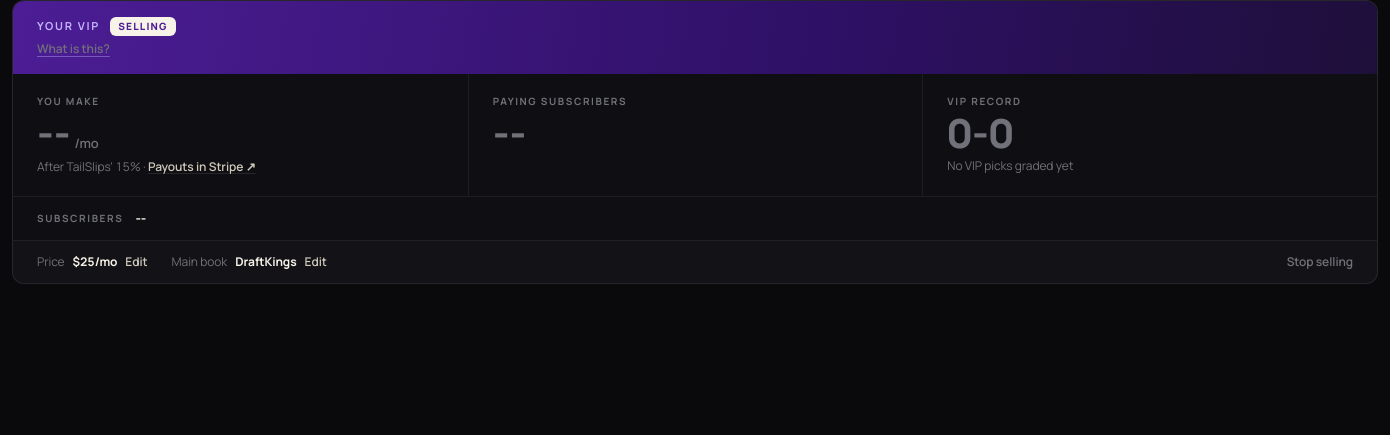
Test case: SellerStrip › shows no count before subscribers load
What coordinates should you click on to do the following:
click the button "Stop selling"
I would click on:
 (1320, 262)
Its box is [1287,253,1353,271].
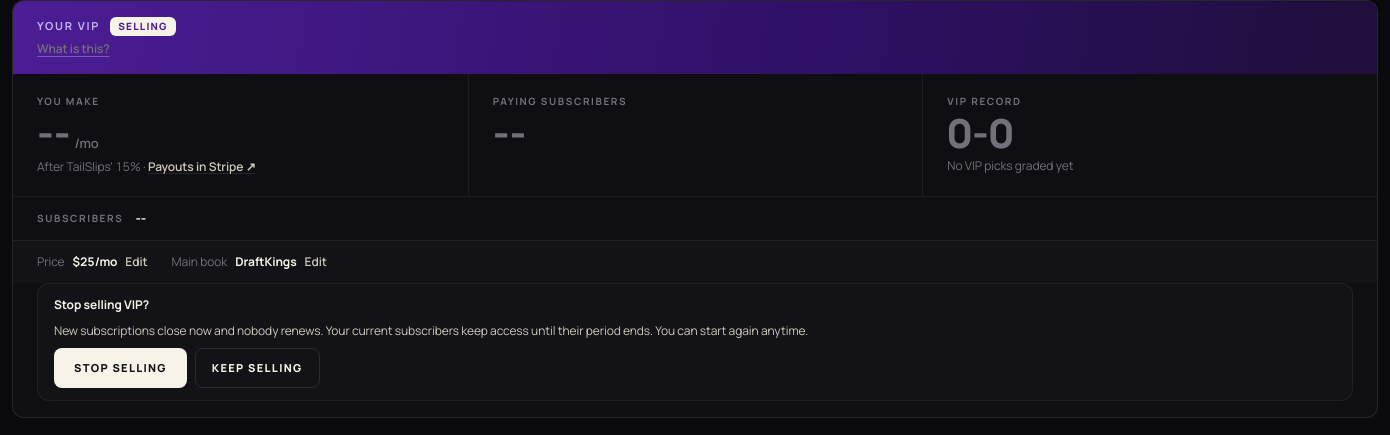
Now the text "Your current subscribers keep" is shown, box [326,322,488,339]
